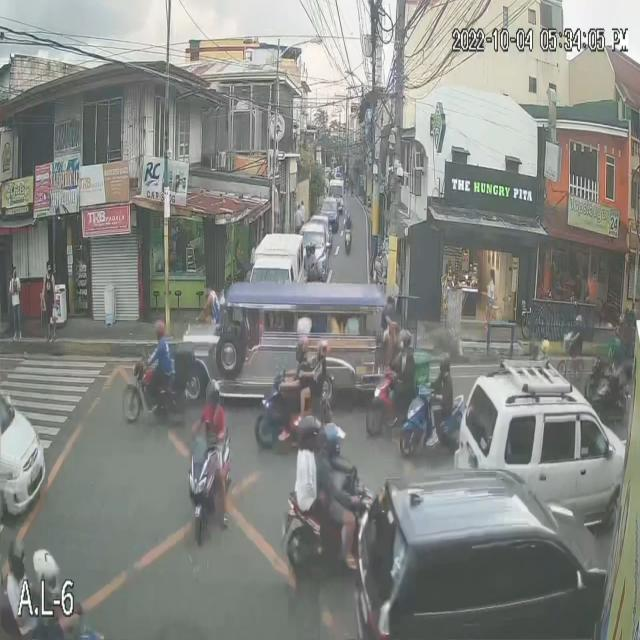Full-Faced: (32, 549, 59, 595), (294, 409, 318, 454), (5, 534, 25, 576), (201, 378, 222, 410), (314, 338, 332, 365), (292, 334, 310, 359), (434, 352, 450, 378), (152, 318, 168, 342), (397, 330, 412, 354), (304, 241, 316, 258)
Half-Faced: (318, 417, 344, 455)
